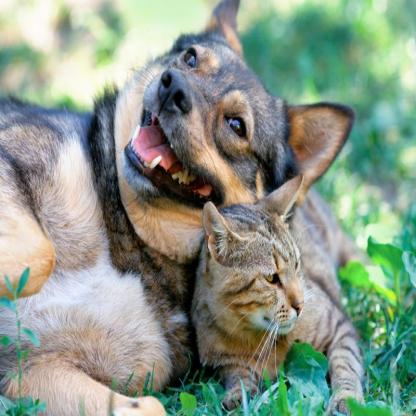cat: (189, 212, 347, 344)
dog: (107, 2, 373, 222)
